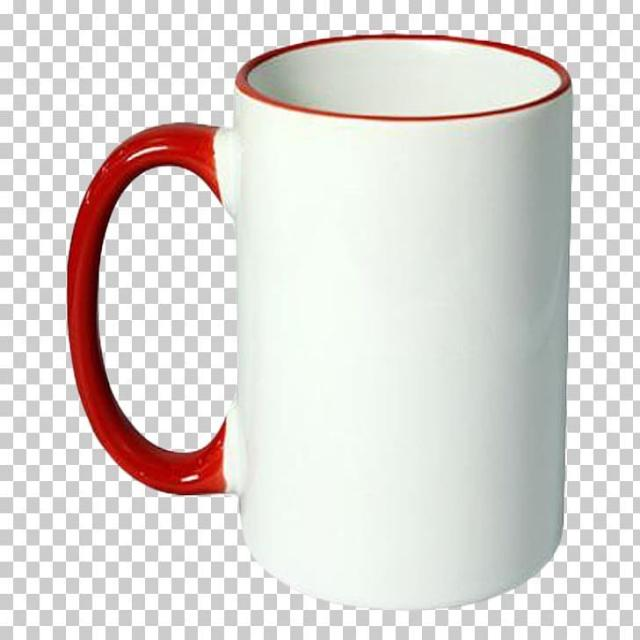glass cup: (67, 33, 574, 609)
